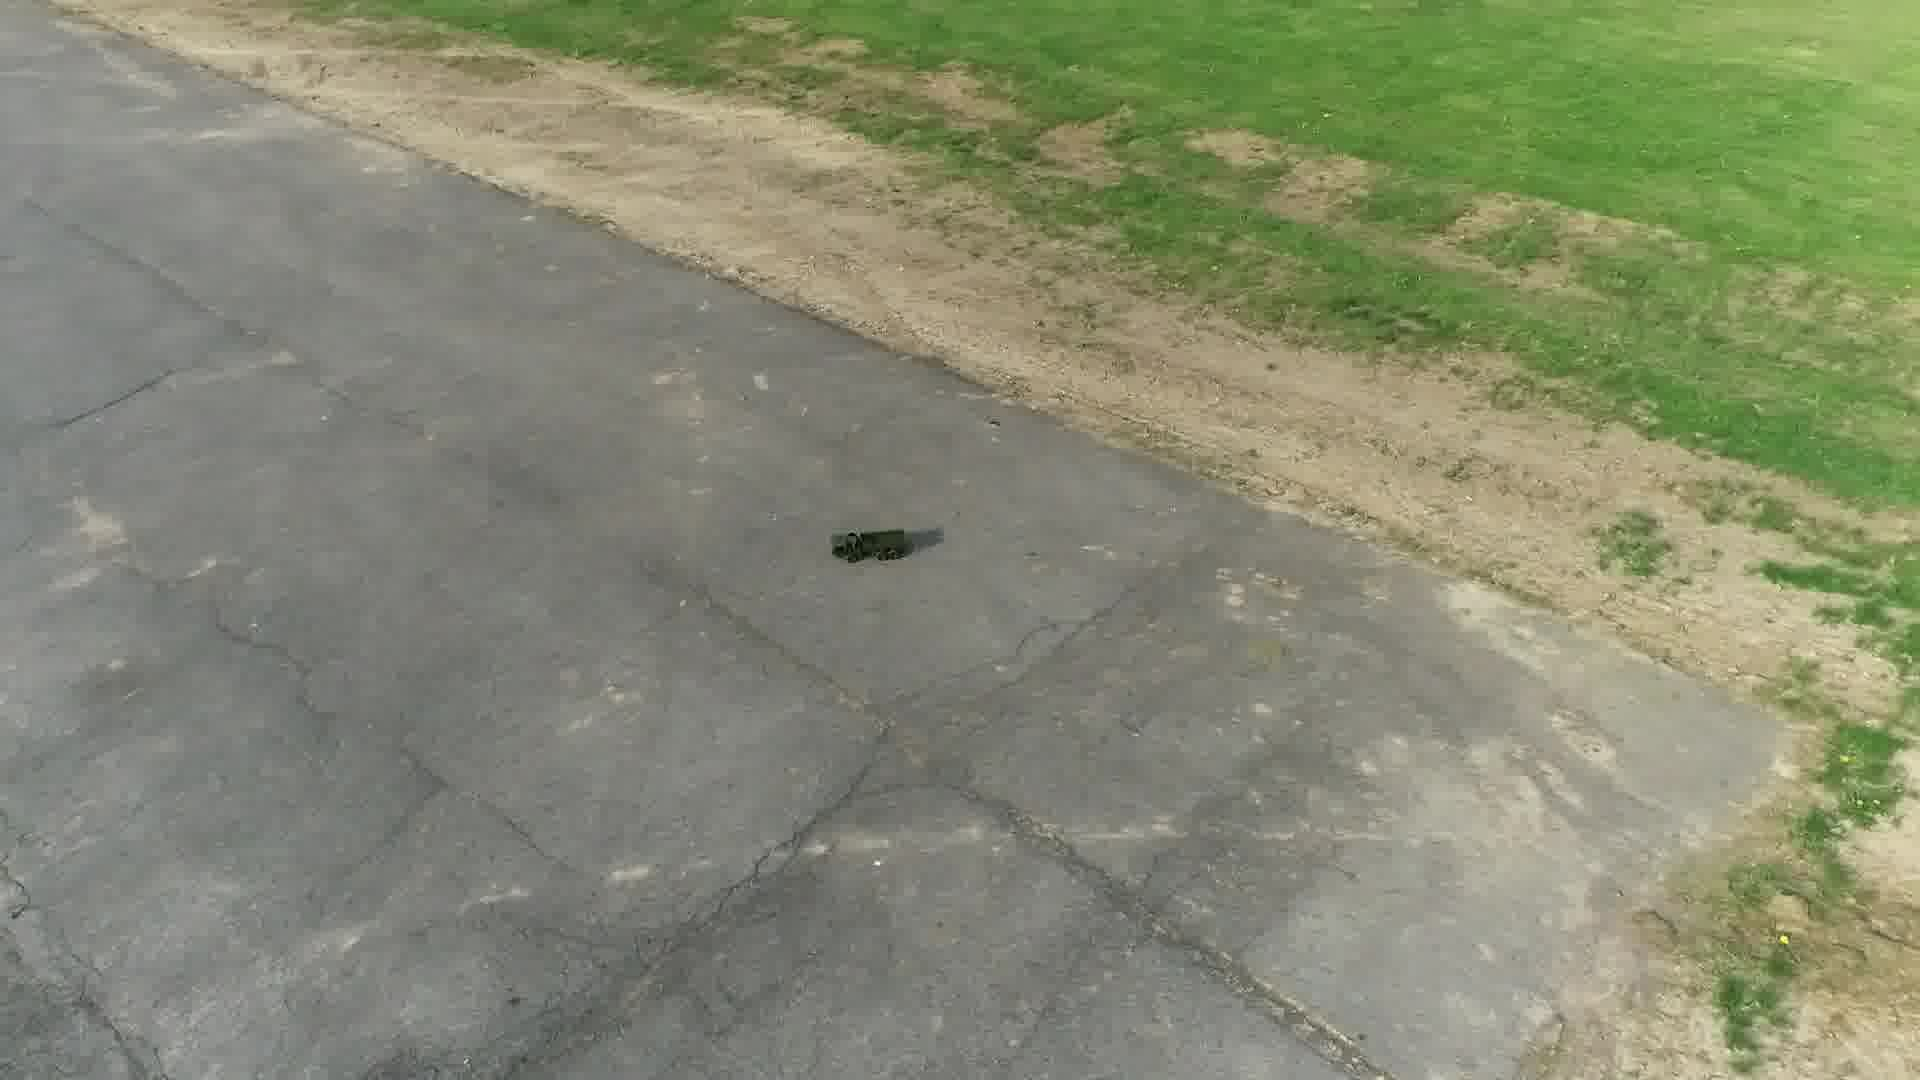transporter9: (827, 526, 918, 564)
